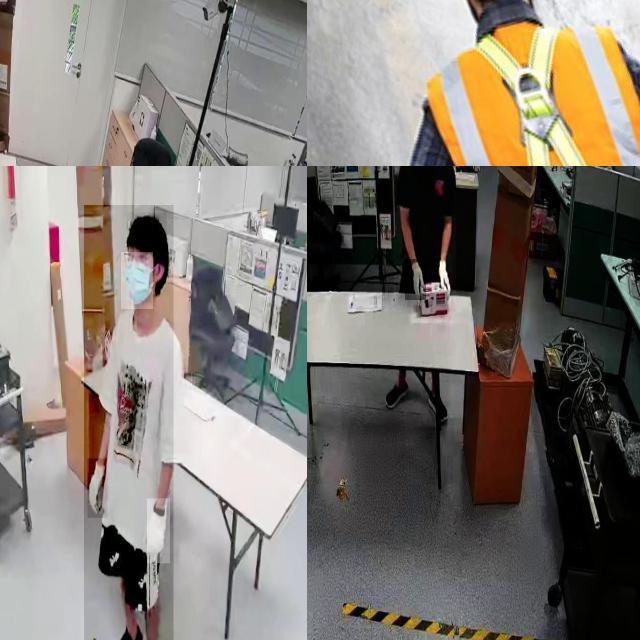Harness: (476, 27, 587, 166)
face_mask: (121, 252, 153, 309)
hand_glove: (147, 498, 171, 564), (88, 458, 108, 519), (405, 259, 427, 301), (436, 253, 452, 291)
head_nohelmet: (127, 212, 167, 250)
person: (84, 205, 174, 640), (393, 166, 456, 294)
shoes: (425, 388, 451, 426), (385, 374, 410, 411), (106, 618, 146, 640)
